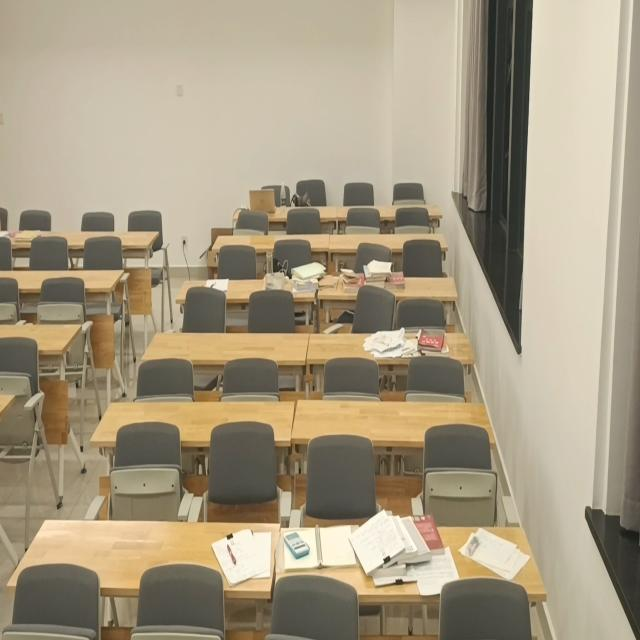Non-empty: (4, 517, 280, 592), (274, 522, 544, 592), (307, 331, 473, 364), (174, 272, 327, 306), (316, 272, 455, 300), (233, 203, 336, 222), (0, 226, 56, 248)
empty: (90, 397, 294, 443), (289, 401, 493, 446), (142, 326, 312, 364)
